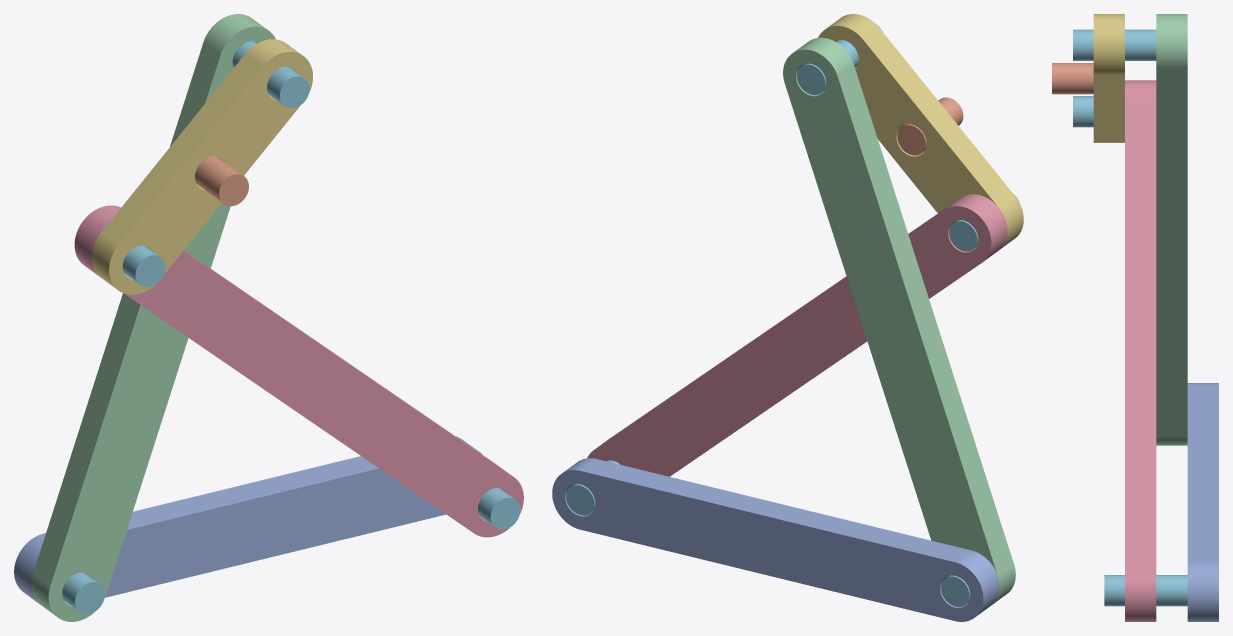
Rendered from chebyshev_linkage_demo.glb.
3 views of the same model, side by side, from view 1: azimuth 30°, elevation 25°; view 2: azimuth 150°, elevation 25°; view 3: azimuth 270°, elevation 25° (orthographic). The views are drawn at different scales.
Parts seen in each view (by area): view 1: rocker_b, rocker_a, ground, coupler, tracer, pin_2, pin_3, pin_0, pin_1; view 2: rocker_a, ground, rocker_b, coupler, tracer, pin_2, pin_1, pin_3, pin_0; view 3: rocker_b, rocker_a, ground, coupler, pin_1, pin_2, tracer, pin_3.
Boxes of the visible parts, bbox=[...] form: rocker_b: bbox=[74, 205, 523, 537]; rocker_a: bbox=[31, 14, 275, 621]; ground: bbox=[14, 436, 482, 603]; coupler: bbox=[92, 39, 312, 294]; tracer: bbox=[195, 156, 248, 206]; pin_2: bbox=[232, 41, 309, 108]; pin_3: bbox=[122, 245, 165, 287]; pin_0: bbox=[62, 572, 104, 614]; pin_1: bbox=[478, 488, 520, 529]; rocker_a: bbox=[783, 37, 1015, 603]; ground: bbox=[552, 458, 999, 621]; rocker_b: bbox=[587, 194, 1007, 476]; coupler: bbox=[818, 14, 1023, 249]; tracer: bbox=[897, 97, 963, 155]; pin_2: bbox=[797, 24, 882, 94]; pin_1: bbox=[566, 460, 619, 515]; pin_3: bbox=[949, 193, 1019, 251]; pin_0: bbox=[941, 575, 970, 606]; rocker_b: bbox=[1125, 80, 1156, 621]; rocker_a: bbox=[1156, 14, 1187, 445]; ground: bbox=[1187, 383, 1218, 621]; coupler: bbox=[1093, 14, 1124, 142]; pin_1: bbox=[1104, 575, 1187, 606]; pin_2: bbox=[1073, 29, 1156, 60]; tracer: bbox=[1052, 63, 1093, 94]; pin_3: bbox=[1073, 96, 1093, 127].
Bounding box in the file's own units: 46 × 52.98 × 16.
